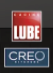creo: (4, 47, 49, 68)
lube: (10, 9, 42, 43)
lube creo: (2, 8, 50, 70)
